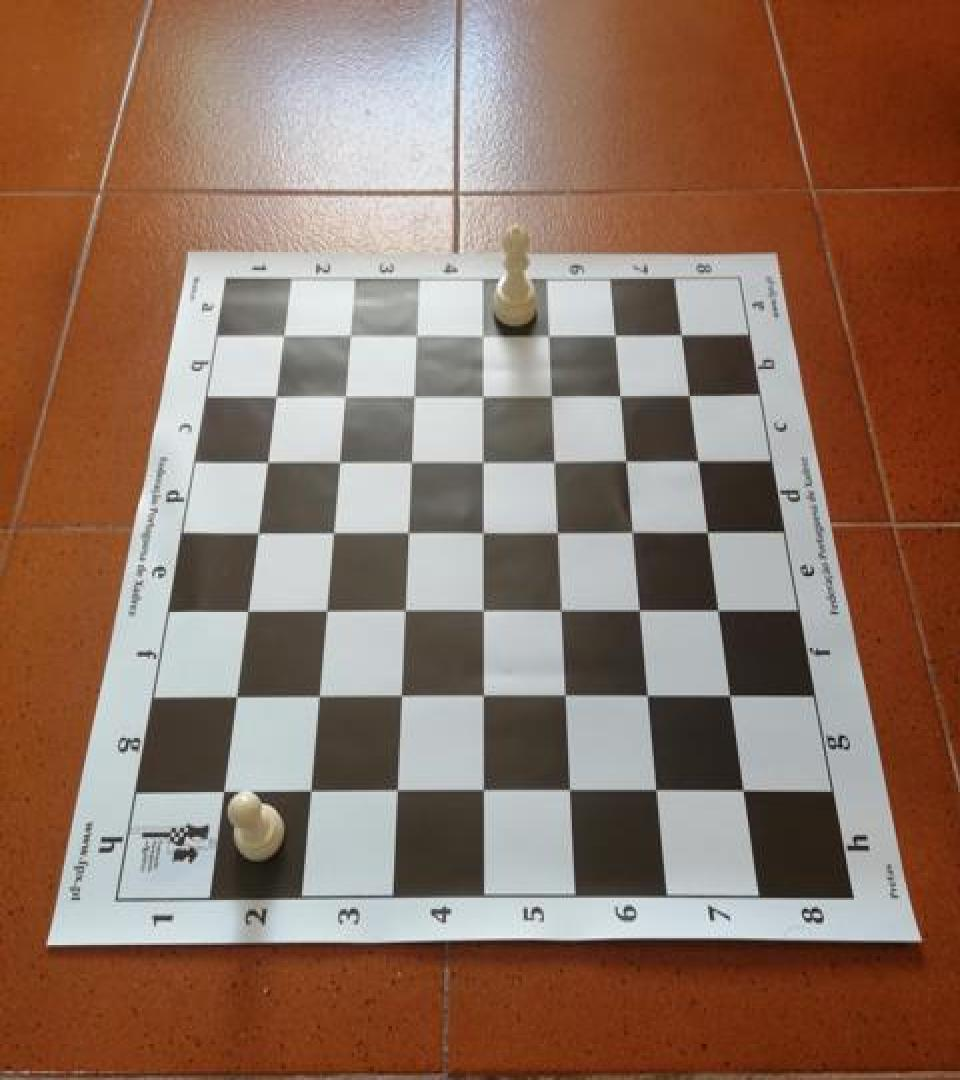xcorner: (664, 316, 694, 350), (598, 316, 628, 350), (533, 316, 563, 350), (467, 315, 497, 349), (401, 315, 431, 349), (335, 315, 365, 349), (269, 315, 299, 349), (672, 376, 702, 410), (604, 376, 634, 410), (536, 376, 566, 410), (467, 376, 497, 410), (399, 374, 429, 408), (330, 374, 360, 408), (261, 374, 291, 408), (681, 441, 711, 475), (610, 441, 640, 475), (539, 441, 569, 475), (467, 441, 497, 475), (396, 440, 426, 474), (324, 440, 354, 474), (252, 440, 282, 474), (691, 512, 721, 546), (617, 512, 647, 546), (542, 512, 572, 546), (467, 512, 497, 546), (392, 512, 422, 546), (317, 512, 347, 546), (242, 512, 272, 546), (702, 590, 732, 624), (624, 590, 654, 624), (546, 590, 576, 624), (468, 590, 498, 624), (389, 590, 419, 624), (310, 590, 340, 624), (231, 590, 261, 624), (715, 675, 745, 709), (633, 676, 663, 710), (550, 676, 580, 710), (468, 676, 498, 710), (385, 676, 415, 710), (302, 676, 332, 710), (219, 677, 249, 711), (728, 770, 758, 804), (642, 770, 672, 804), (555, 770, 585, 804), (468, 772, 498, 806), (381, 772, 411, 806), (293, 772, 323, 806), (206, 773, 236, 807)
